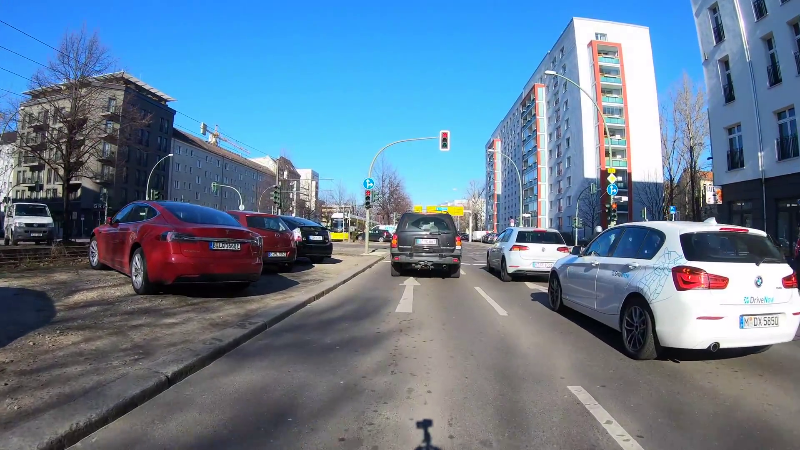Plate: (740, 314, 781, 328), (209, 240, 242, 251), (530, 260, 554, 268), (415, 237, 437, 244), (267, 251, 287, 257), (308, 234, 323, 241), (30, 233, 44, 237)
